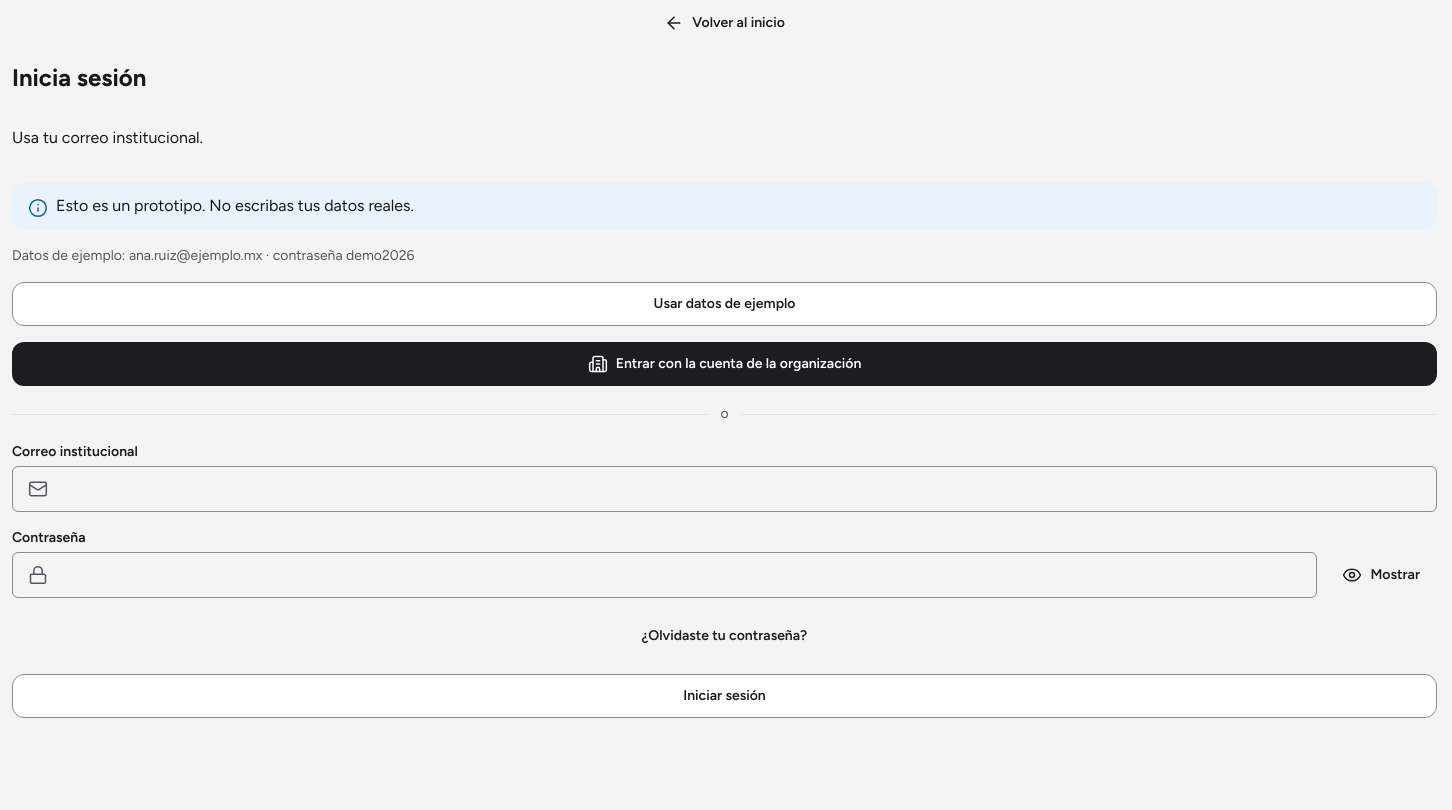
Scenario: A1 sign-in view › shows a connection message when the service does not answer
Type "ana.ruiz@ejemplo.mx" into the field labelled "Correo institucional" at (724, 489), box [12, 466, 1437, 512]
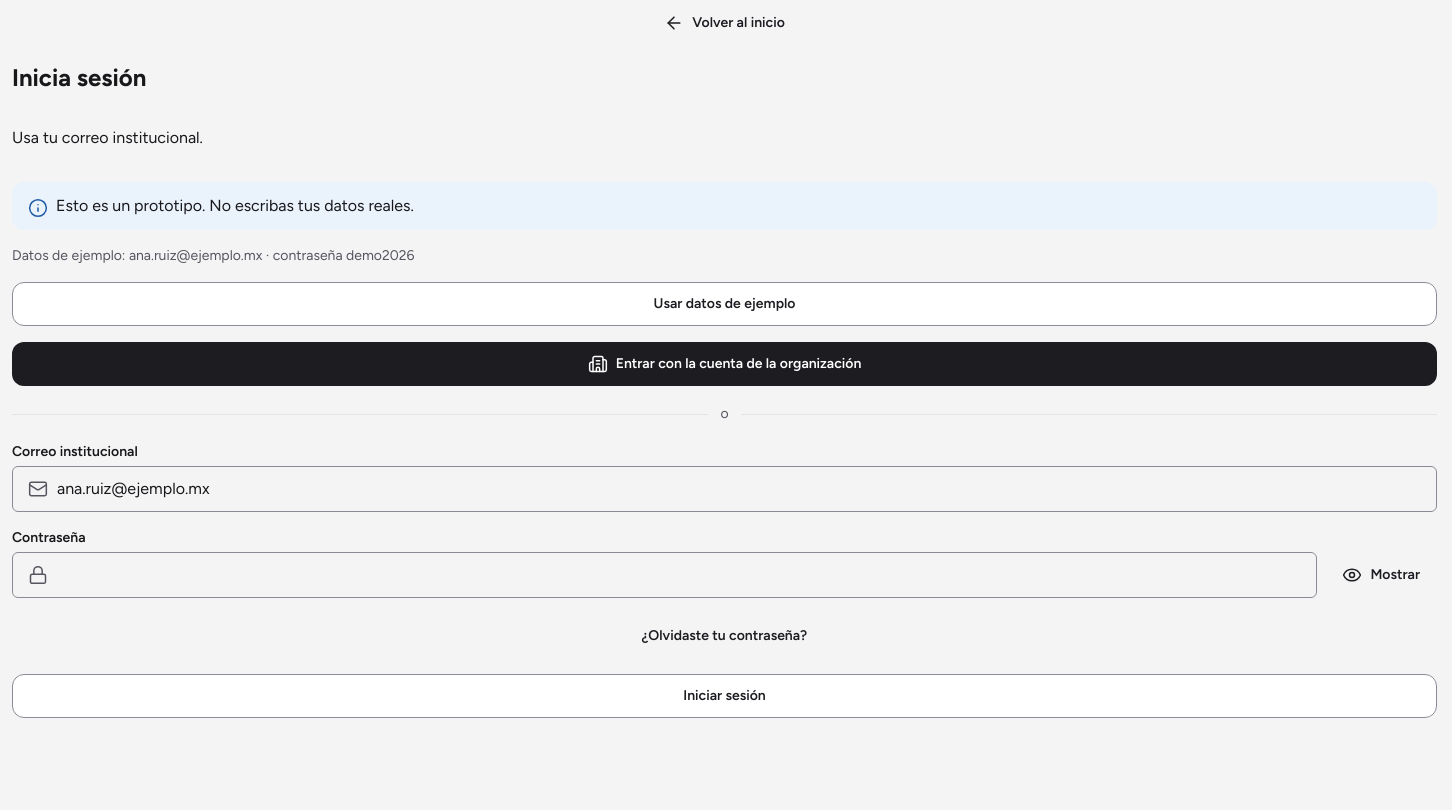
Type "demo2026" into the password field labelled "Contraseña" at (665, 575), box [12, 552, 1317, 598]
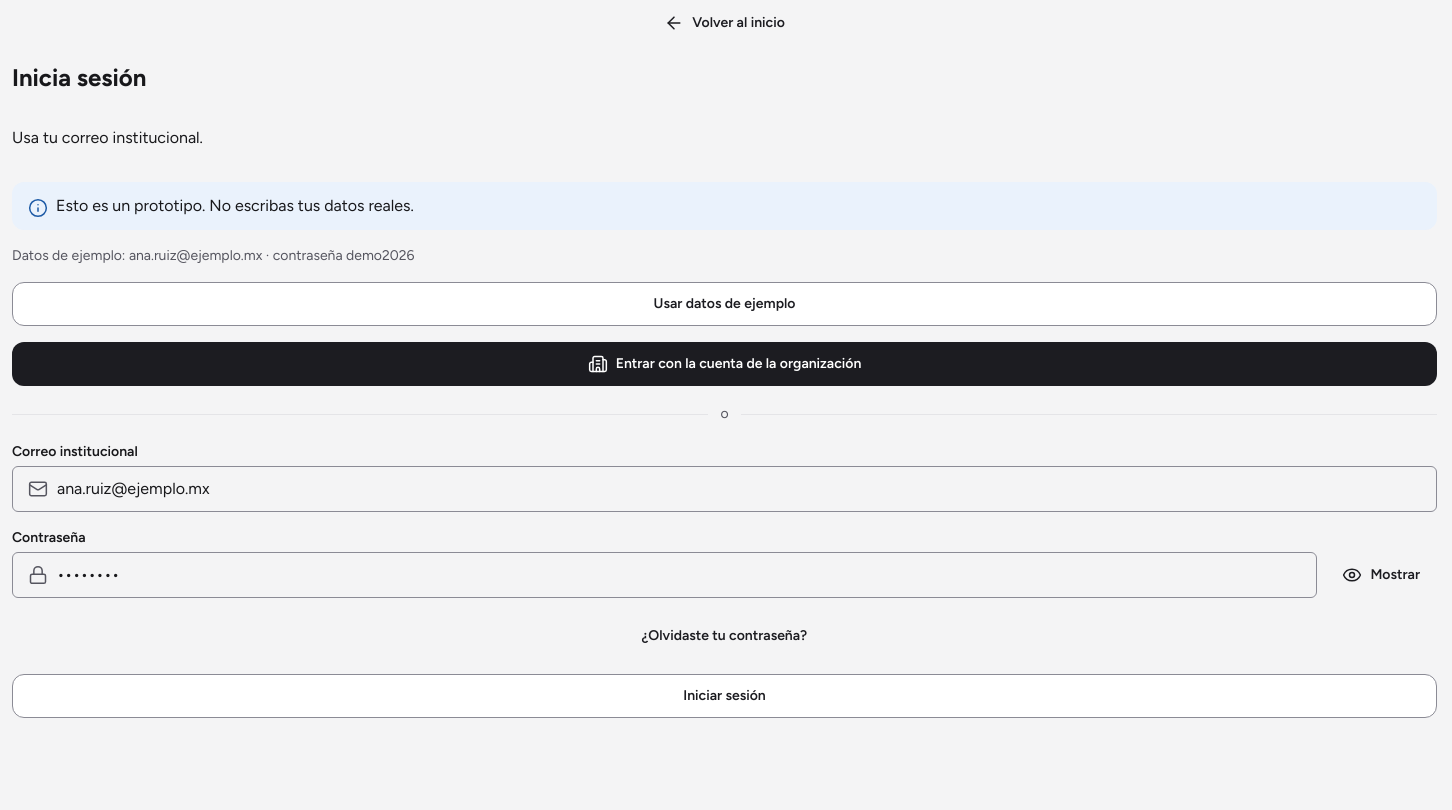
Click the button "Iniciar sesión" at (724, 696), box [12, 674, 1437, 718]
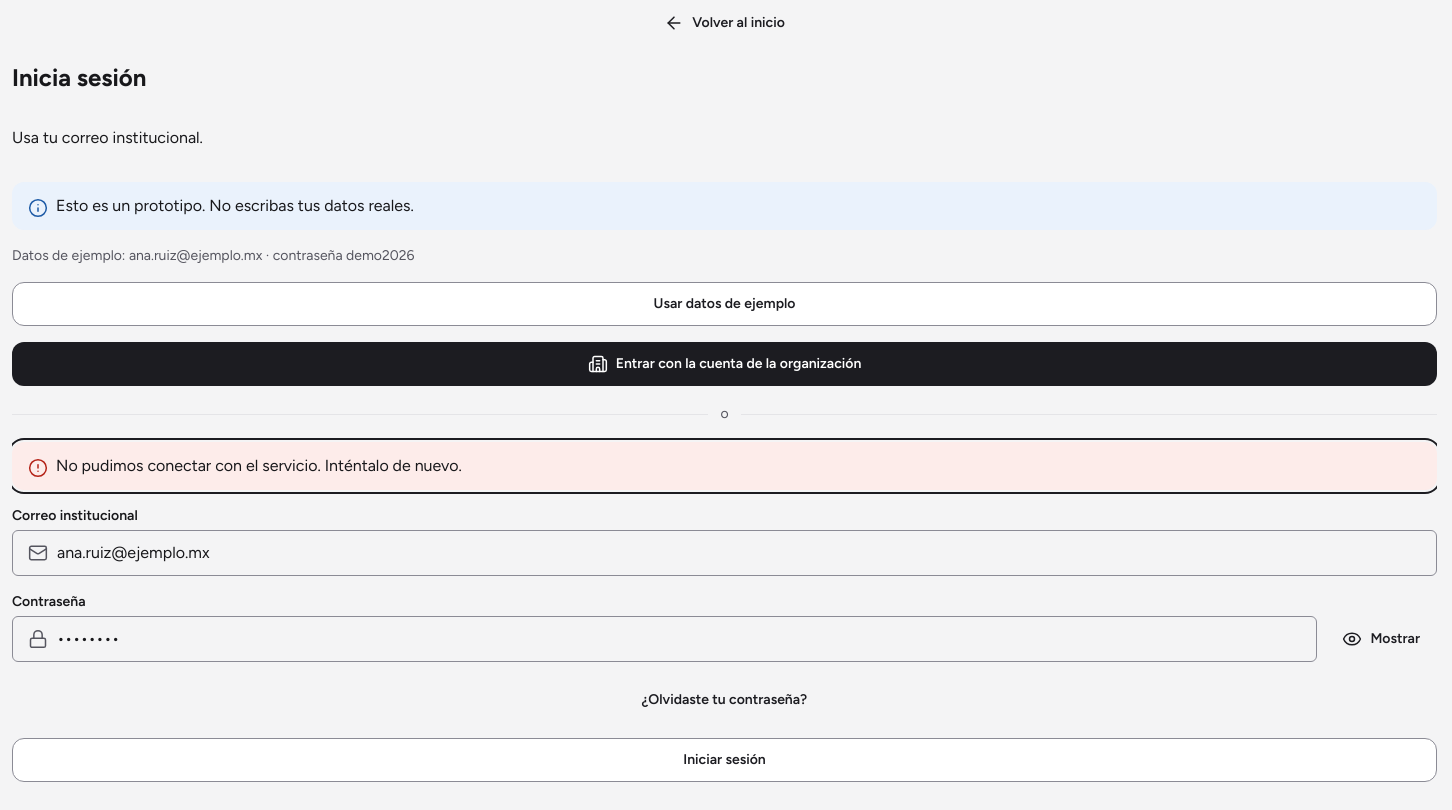
Now the message reads "No pudimos conectar con el servicio. Inténtalo de nuevo.", box [56, 456, 462, 475]
